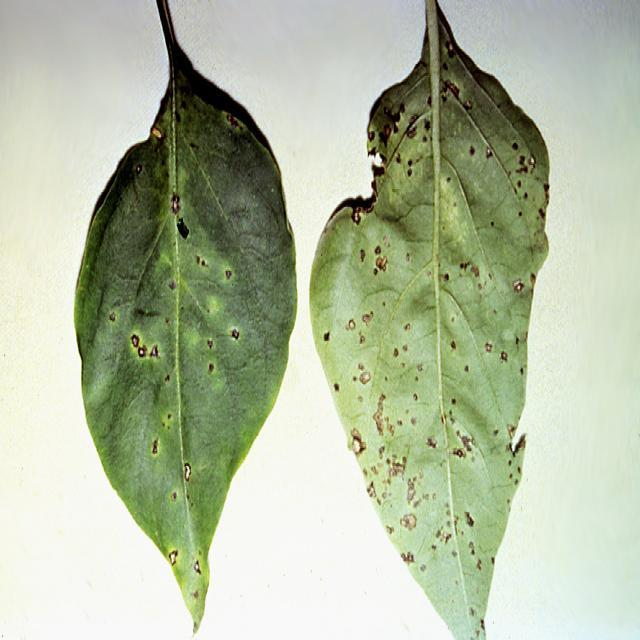Bacterial Spot: (360, 118, 520, 572), (118, 171, 250, 497)
